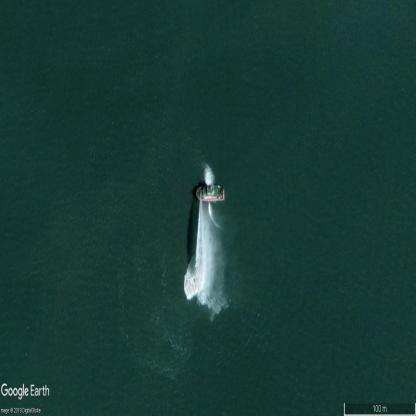ship: (197, 184, 224, 201)
